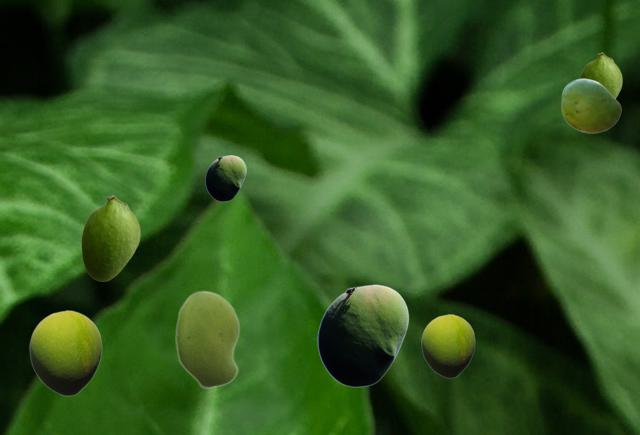green_mango: (317, 284, 408, 386), (175, 290, 239, 388), (29, 310, 101, 395), (81, 195, 139, 280), (421, 314, 474, 377), (561, 78, 620, 132), (579, 52, 621, 98), (205, 155, 245, 200)
